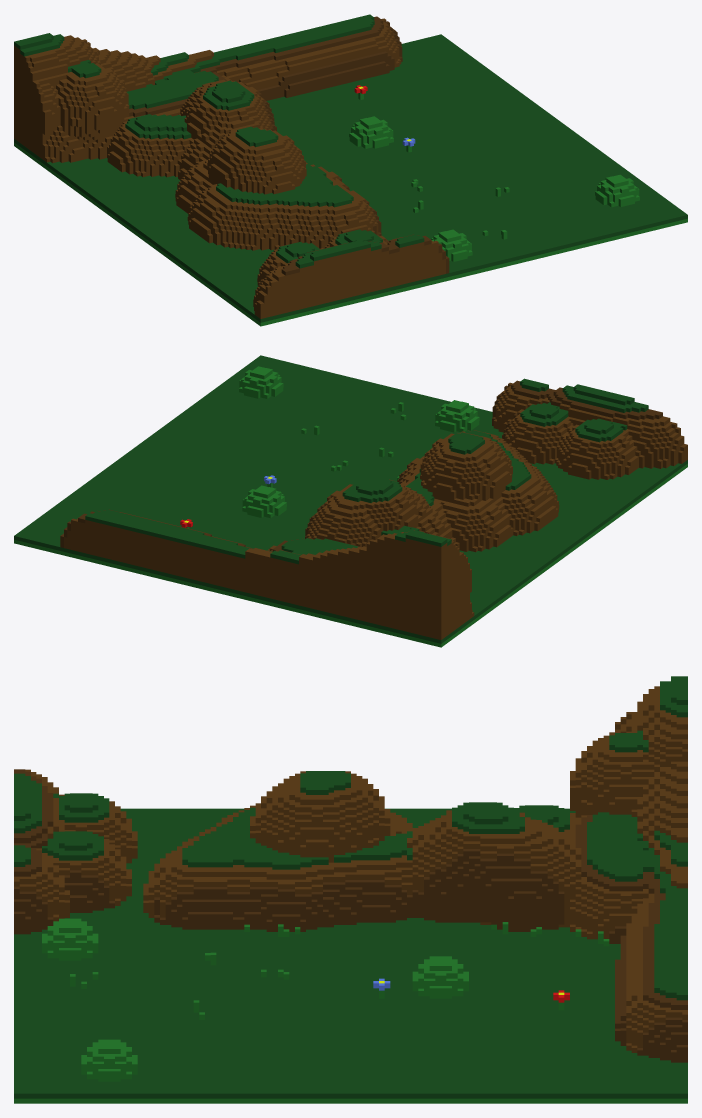
File: town_model-10.obj
The picture shows the model from 3 angles, top to bottom: view 1: azimuth 30°, elevation 25°; view 2: azimuth 150°, elevation 25°; view 3: azimuth 270°, elevation 25°; orthographic projection. The views are drawn at different scales.
Parts seen in each view (by area): view 1: town_model-10; view 2: town_model-10; view 3: town_model-10.
Part boxes in pixels (x1=…): town_model-10: x1=14, y1=14, x2=687, y2=326; town_model-10: x1=14, y1=355, x2=687, y2=647; town_model-10: x1=14, y1=676, x2=687, y2=1103.
Bounding box in the file's own units: 120 × 28 × 120.
1 material, 1 textured.
